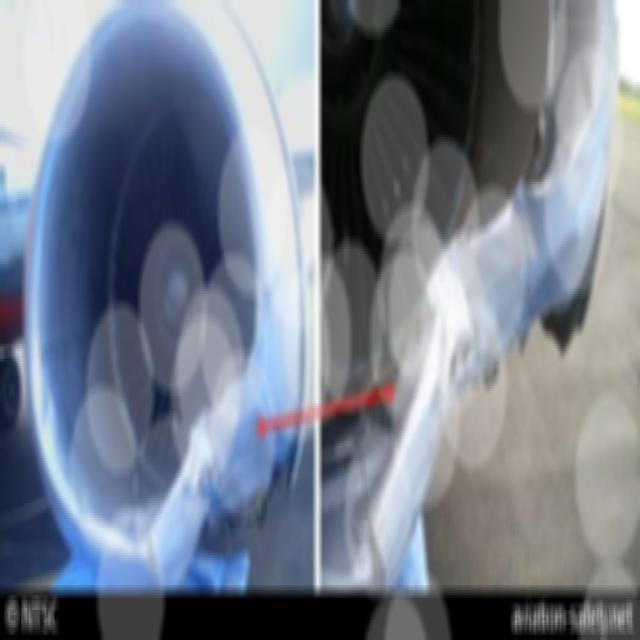dent: (519, 188, 546, 260)
